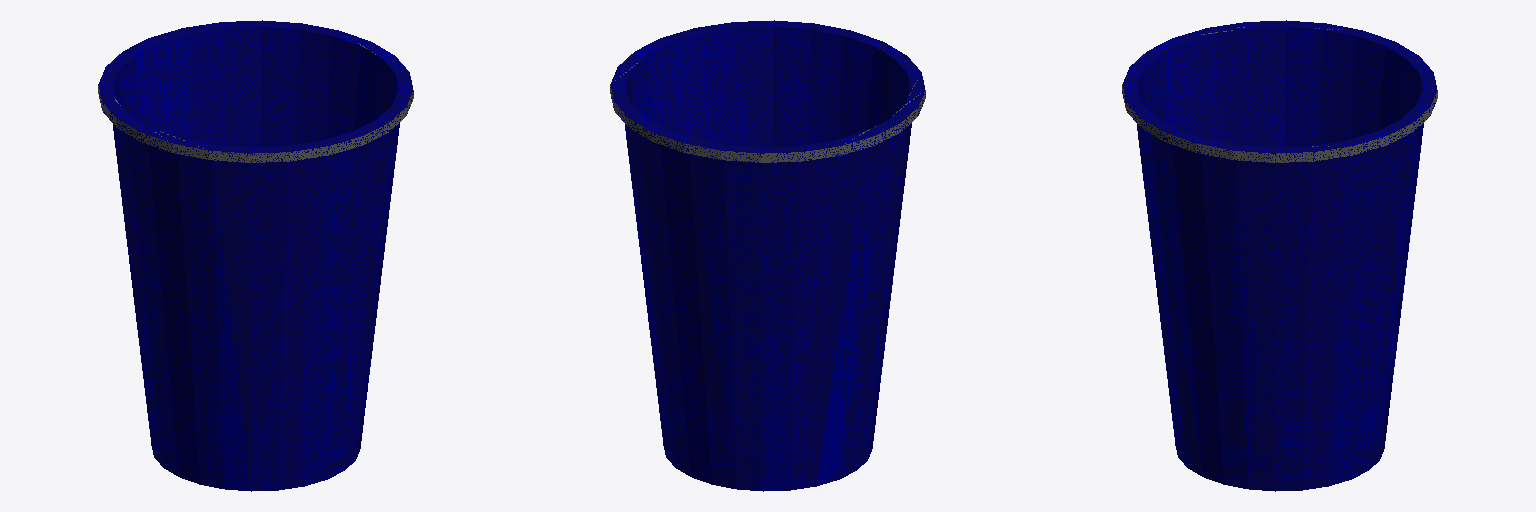
URDF robot description (blueCup):
<robot
  name="blueCup">
  <link name="blueCup">
    <inertial>
      <origin xyz="0.0 0.0 0.0" rpy="0 0 0"/>
      <mass value="0.5"/>
      <inertia ixx="1" ixy="0.0" ixz="0.0" iyy="1" iyz="0.0" izz="1" />
    </inertial>

    <visual>
      <geometry>
        <mesh filename="../../meshes/rssModels/blueCup_sketchup.dae" scale="1 1 1" />
      </geometry>
     </visual>

    <collision>
      <geometry>
        <mesh filename="../../meshes/rssModels/blueCup_sketchup.dae" scale="1 1 1" />
      </geometry>
    </collision>

  </link>
</robot>

--- Render facts (derived) ---
The picture shows the robot from 3 angles, left to right: view 1: azimuth 30°, elevation 25°; view 2: azimuth 150°, elevation 25°; view 3: azimuth 270°, elevation 25°; orthographic projection.
Robot: blueCup — 1 links, 0 joints (none); root link blueCup; default pose: every joint at zero.
Visible links, largest first — view 1: blueCup; view 2: blueCup; view 3: blueCup.
Boxes of the visible links, x1,y1,x2,y2 form: blueCup: (98, 20, 413, 491); blueCup: (610, 20, 925, 491); blueCup: (1122, 20, 1437, 491).
Bounding box of the posed robot: 0.0956 × 0.0956 × 0.1207 m (x, y, z).
Meshes: 1 distinct files referenced, 1 mesh visuals loaded (1 Collada DAE).